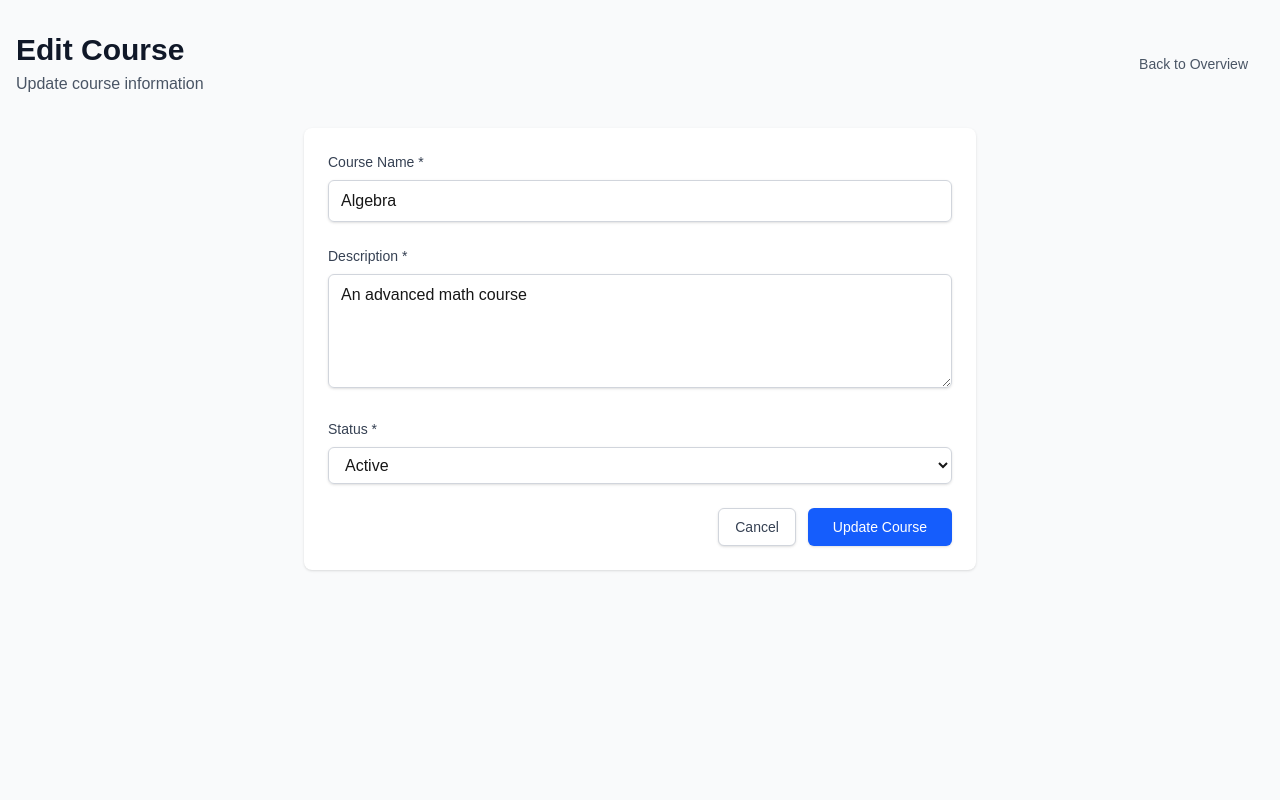
Scenario: EditCoursePage › shows error if description is too short
The width and height of the screenshot is (1280, 800).
Step 1. Replace the text in the text box labelled "Description *" with "short" → [640, 331], box [328,274,952,388]
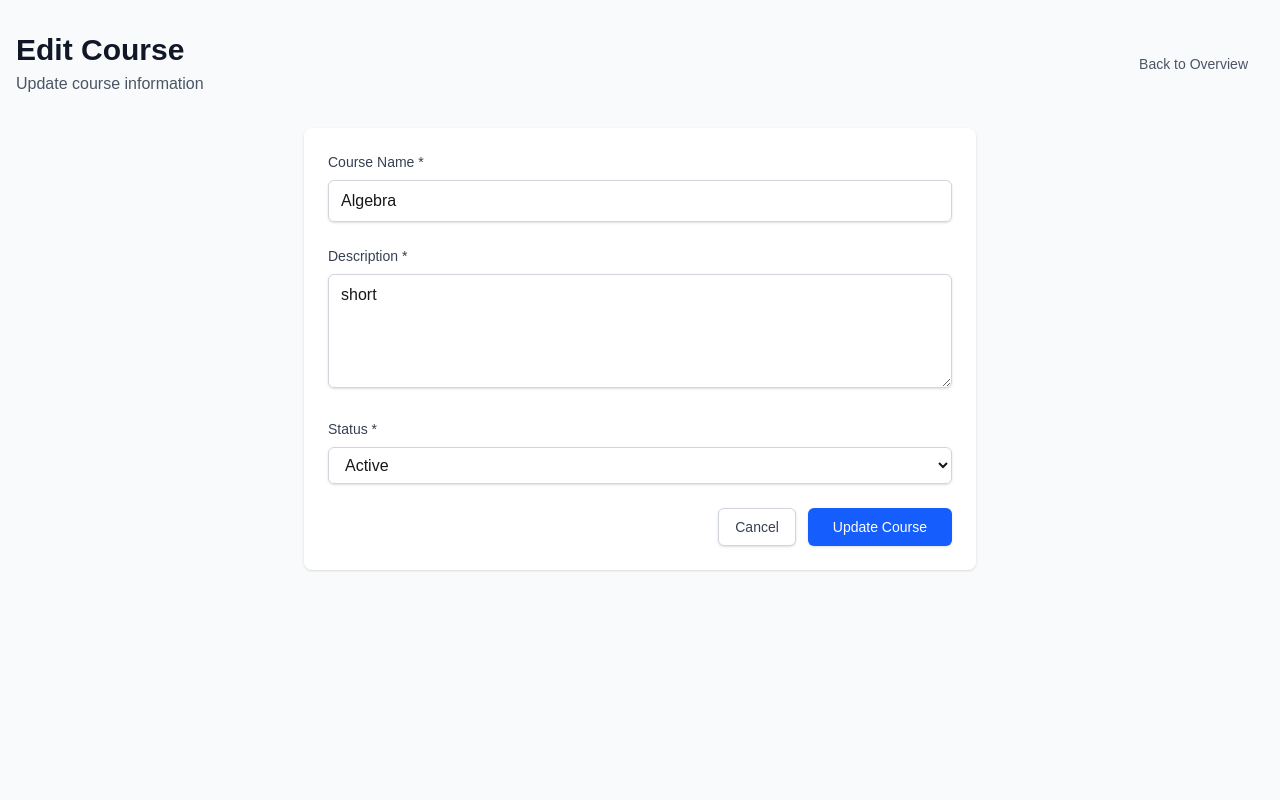
Step 2. Click the button "Update Course" → [880, 527], box [808,508,952,546]
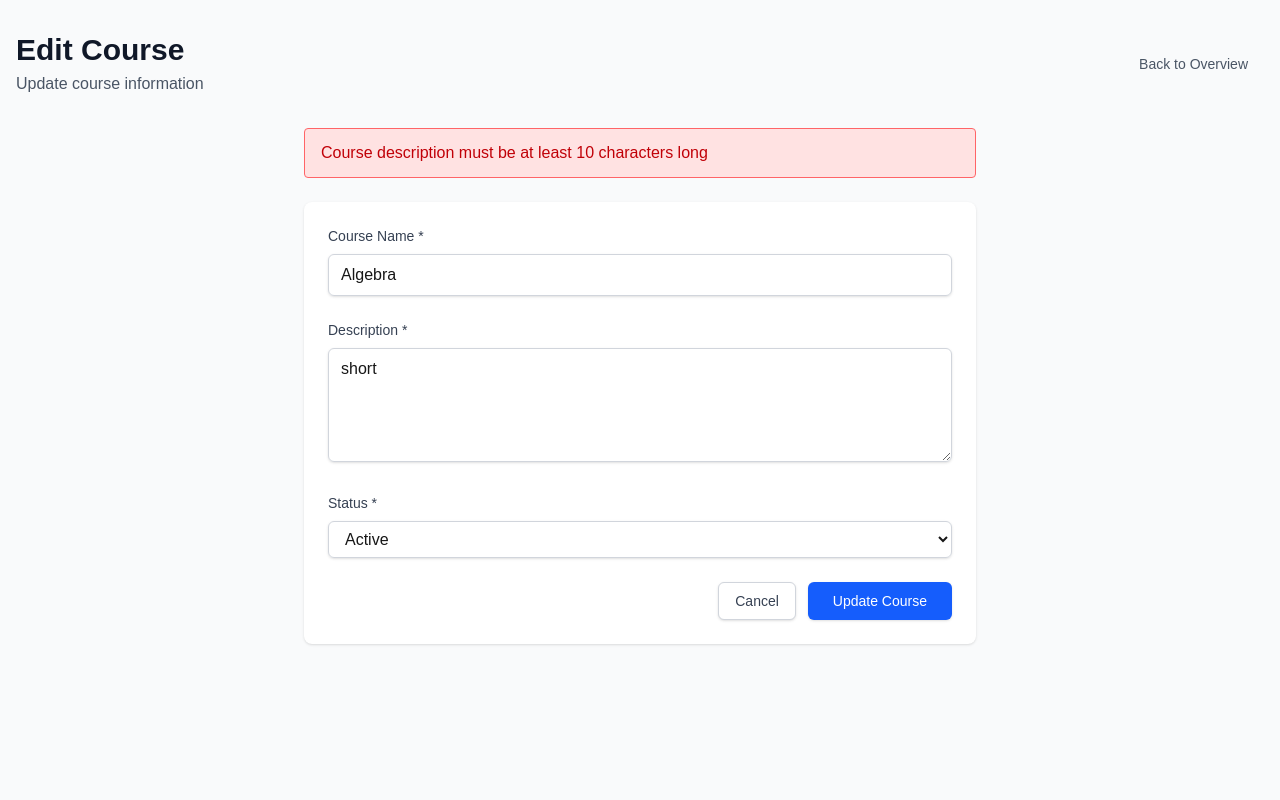
Check: the text "Course description must be at least 10 characters long" is shown, box [304,128,976,178]
